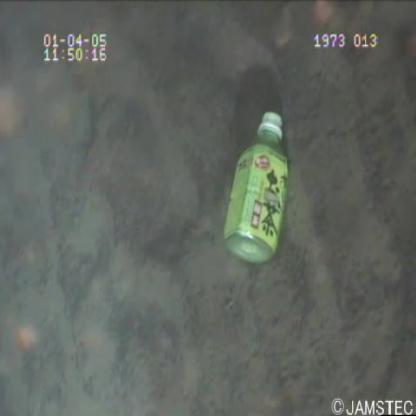Rác: (222, 105, 291, 274)
